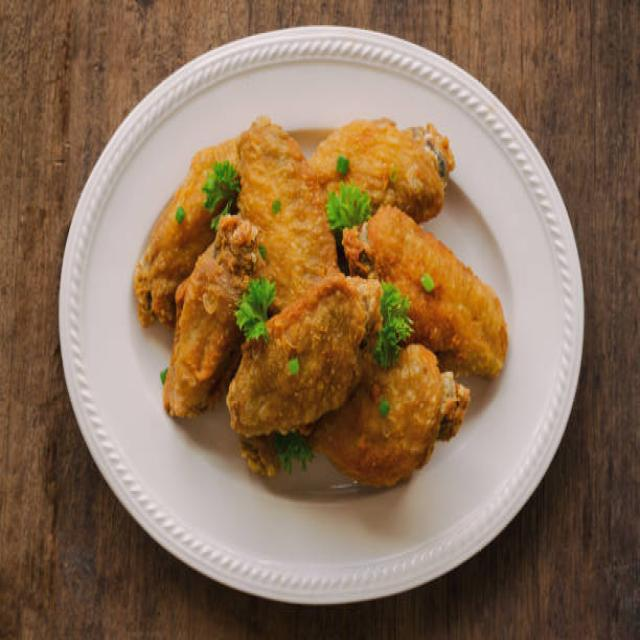Frango: (131, 108, 509, 500)
